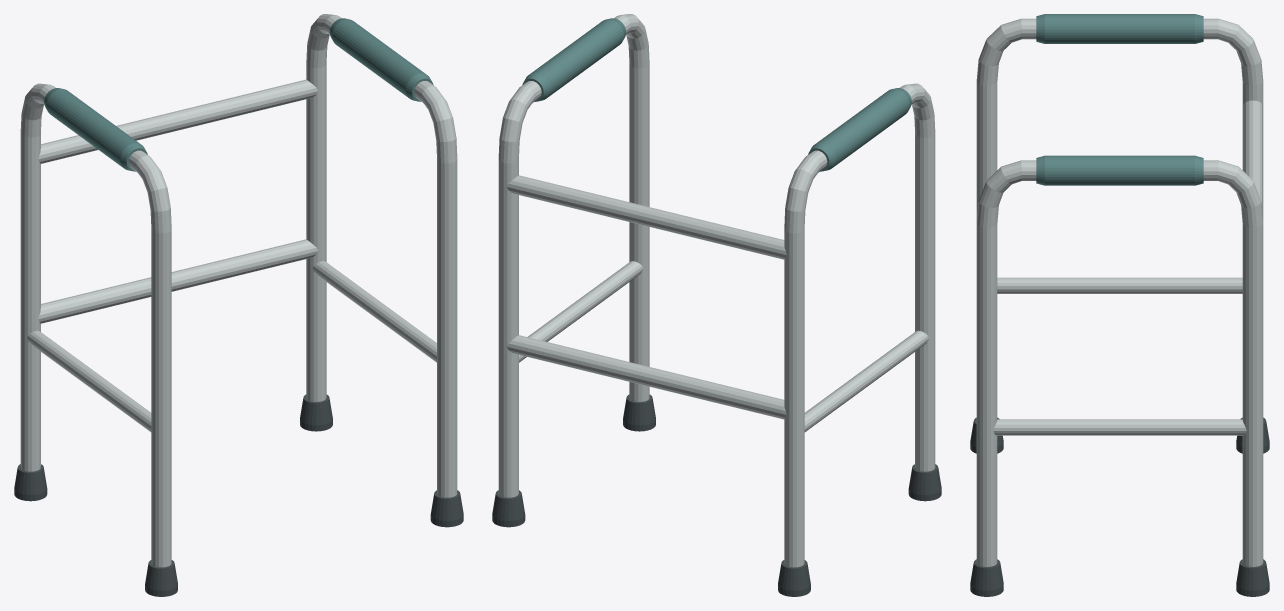
The picture shows the model from 3 angles, left to right: view 1: azimuth 30°, elevation 25°; view 2: azimuth 150°, elevation 25°; view 3: azimuth 270°, elevation 25°; orthographic projection.
Parts seen in each view (by area): view 1: WholeContinuousSideUFrame_-1, WholeContinuousSideUFrame_1, WholeFrontOnlyLowerCrossmember, WholeFrontOnlyUpperCrossmember, WholeLongUpperGripSleeve_-1, WholeLongUpperGripSleeve_1, WholeSideLowerCrossbar_-1, WholeSideLowerCrossbar_1, WholeClosedFlaredFoot_(1, -0.23), WholeClosedFlaredFoot_(1, 0.23), WholeClosedFlaredFoot_(-1, 0.23), WholeClosedFlaredFoot_(-1, -0.23); view 2: WholeContinuousSideUFrame_-1, WholeContinuousSideUFrame_1, WholeFrontOnlyUpperCrossmember, WholeFrontOnlyLowerCrossmember, WholeLongUpperGripSleeve_-1, WholeLongUpperGripSleeve_1, WholeSideLowerCrossbar_-1, WholeSideLowerCrossbar_1, WholeClosedFlaredFoot_(1, -0.23), WholeClosedFlaredFoot_(1, 0.23), WholeClosedFlaredFoot_(-1, -0.23), WholeClosedFlaredFoot_(-1, 0.23); view 3: WholeContinuousSideUFrame_1, WholeContinuousSideUFrame_-1, WholeLongUpperGripSleeve_1, WholeLongUpperGripSleeve_-1, WholeSideLowerCrossbar_1, WholeSideLowerCrossbar_-1, WholeFrontOnlyUpperCrossmember, WholeClosedFlaredFoot_(1, -0.23), WholeClosedFlaredFoot_(1, 0.23).
Part boxes in pixels (left/top/right/bottom): WholeContinuousSideUFrame_-1: left=20, top=83, right=171, bottom=567; WholeContinuousSideUFrame_1: left=306, top=14, right=457, bottom=497; WholeFrontOnlyLowerCrossmember: left=38, top=239, right=318, bottom=323; WholeFrontOnlyUpperCrossmember: left=38, top=79, right=318, bottom=163; WholeLongUpperGripSleeve_-1: left=44, top=88, right=147, bottom=171; WholeLongUpperGripSleeve_1: left=329, top=18, right=433, bottom=101; WholeSideLowerCrossbar_-1: left=27, top=330, right=151, bottom=431; WholeSideLowerCrossbar_1: left=312, top=261, right=436, bottom=362; WholeClosedFlaredFoot_(1, -0.23): left=430, top=490, right=463, bottom=527; WholeClosedFlaredFoot_(1, 0.23): left=300, top=394, right=332, bottom=431; WholeClosedFlaredFoot_(-1, 0.23): left=14, top=464, right=47, bottom=501; WholeClosedFlaredFoot_(-1, -0.23): left=145, top=560, right=177, bottom=596; WholeContinuousSideUFrame_-1: left=784, top=83, right=935, bottom=567; WholeContinuousSideUFrame_1: left=498, top=14, right=649, bottom=497; WholeFrontOnlyUpperCrossmember: left=506, top=175, right=786, bottom=259; WholeFrontOnlyLowerCrossmember: left=506, top=335, right=786, bottom=419; WholeLongUpperGripSleeve_-1: left=808, top=88, right=911, bottom=171; WholeLongUpperGripSleeve_1: left=522, top=18, right=626, bottom=101; WholeSideLowerCrossbar_-1: left=804, top=330, right=928, bottom=431; WholeSideLowerCrossbar_1: left=519, top=261, right=643, bottom=362; WholeClosedFlaredFoot_(1, -0.23): left=623, top=394, right=655, bottom=431; WholeClosedFlaredFoot_(1, 0.23): left=492, top=490, right=525, bottom=527; WholeClosedFlaredFoot_(-1, -0.23): left=908, top=464, right=941, bottom=501; WholeClosedFlaredFoot_(-1, 0.23): left=778, top=560, right=810, bottom=596; WholeContinuousSideUFrame_1: left=976, top=160, right=1263, bottom=566; WholeContinuousSideUFrame_-1: left=976, top=18, right=1263, bottom=220; WholeLongUpperGripSleeve_1: left=1036, top=155, right=1203, bottom=185; WholeLongUpperGripSleeve_-1: left=1036, top=14, right=1203, bottom=43; WholeSideLowerCrossbar_1: left=993, top=419, right=1246, bottom=435; WholeSideLowerCrossbar_-1: left=997, top=277, right=1242, bottom=293; WholeFrontOnlyUpperCrossmember: left=1243, top=100, right=1262, bottom=212; WholeClosedFlaredFoot_(1, -0.23): left=970, top=559, right=1003, bottom=596; WholeClosedFlaredFoot_(1, 0.23): left=1236, top=559, right=1269, bottom=596.
Bounding box in the file's own units: 0.638 × 0.826 × 0.518.
